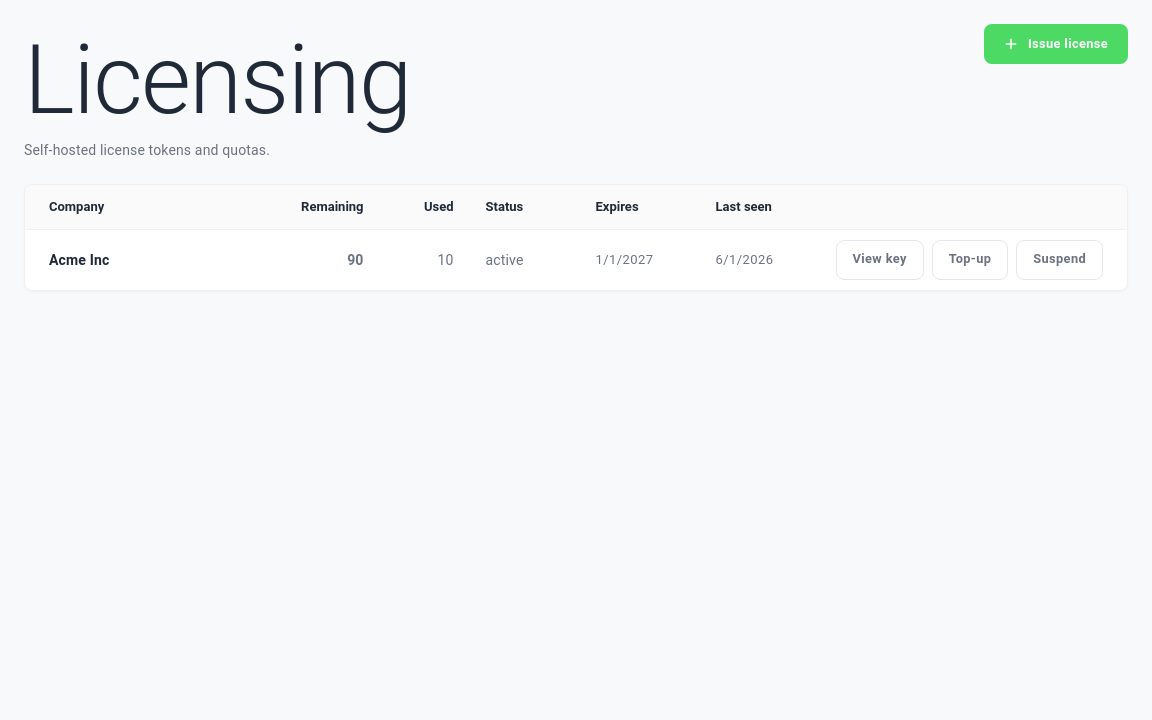
Test: LicensingPage › Issue license opens the issue dialog
The width and height of the screenshot is (1152, 720).
Expected: the text "Acme Inc" is shown, [49,252,109,268]
Click the button "Issue license". click: (1056, 44)
box: [984,24,1128,64]
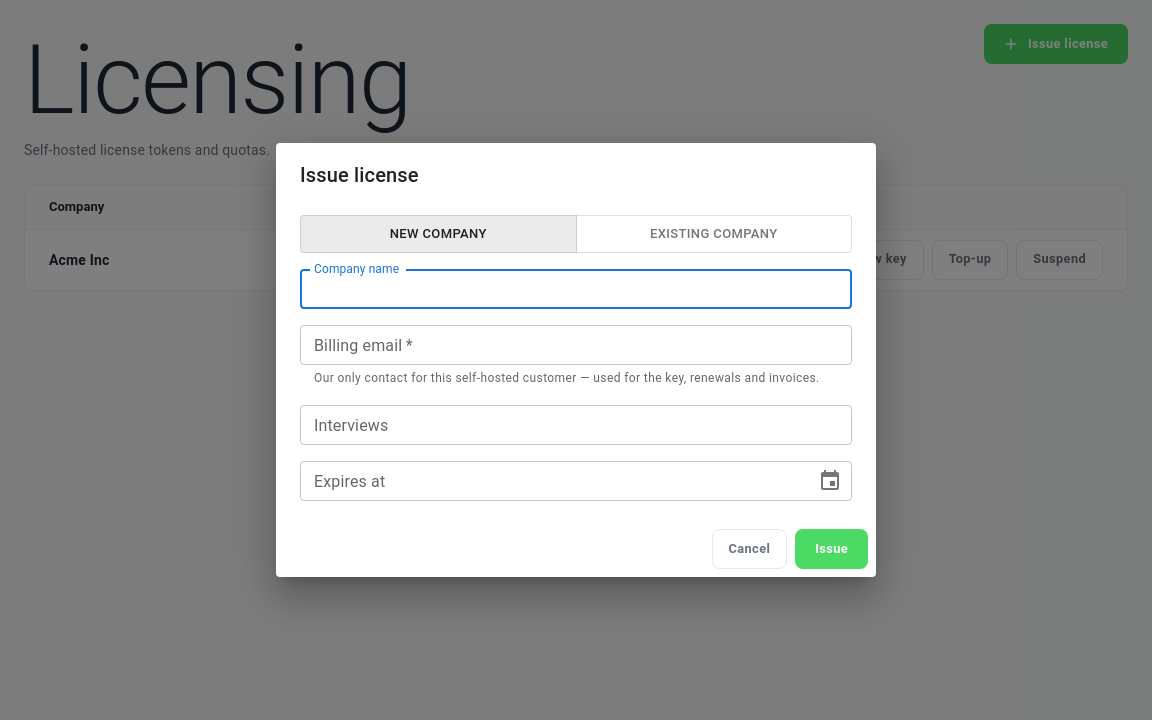
Now the field labelled "Company name" is shown, box [300,269,852,309]
